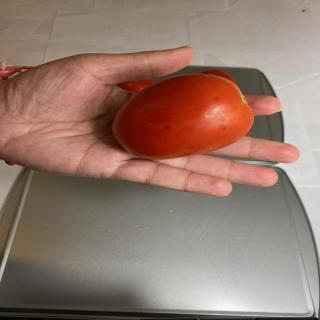Chilli: (112, 72, 255, 160)
